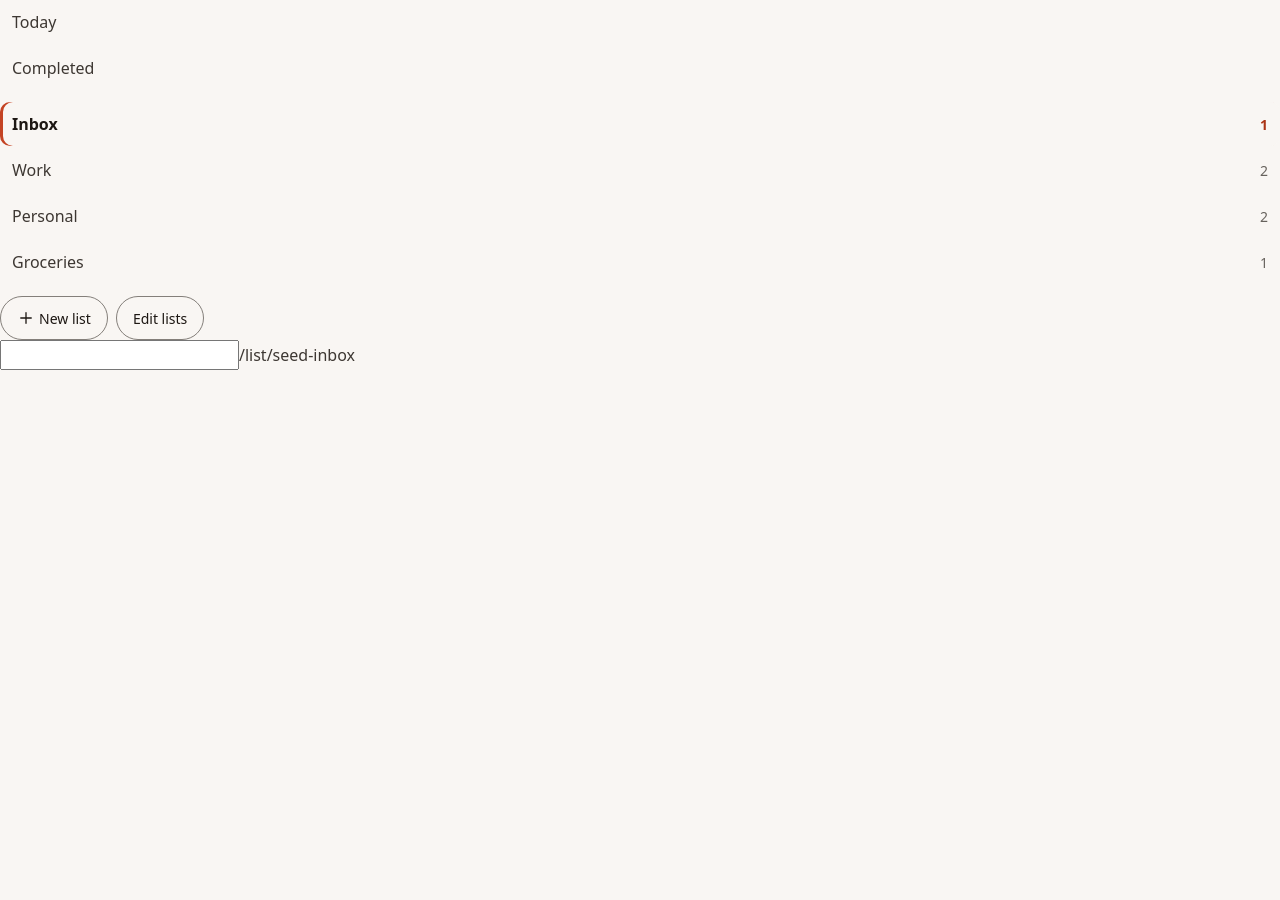
Test case: ListNav › deleting › deletes a non-empty list with its tasks when asked to
expect the link "Work 2" is shown: met, box [12,159,1268,181]
What coordinates should you click on to do the following:
click the button "Edit lists"
I would click on:
 (160, 318)
Its box is [116,296,204,340].
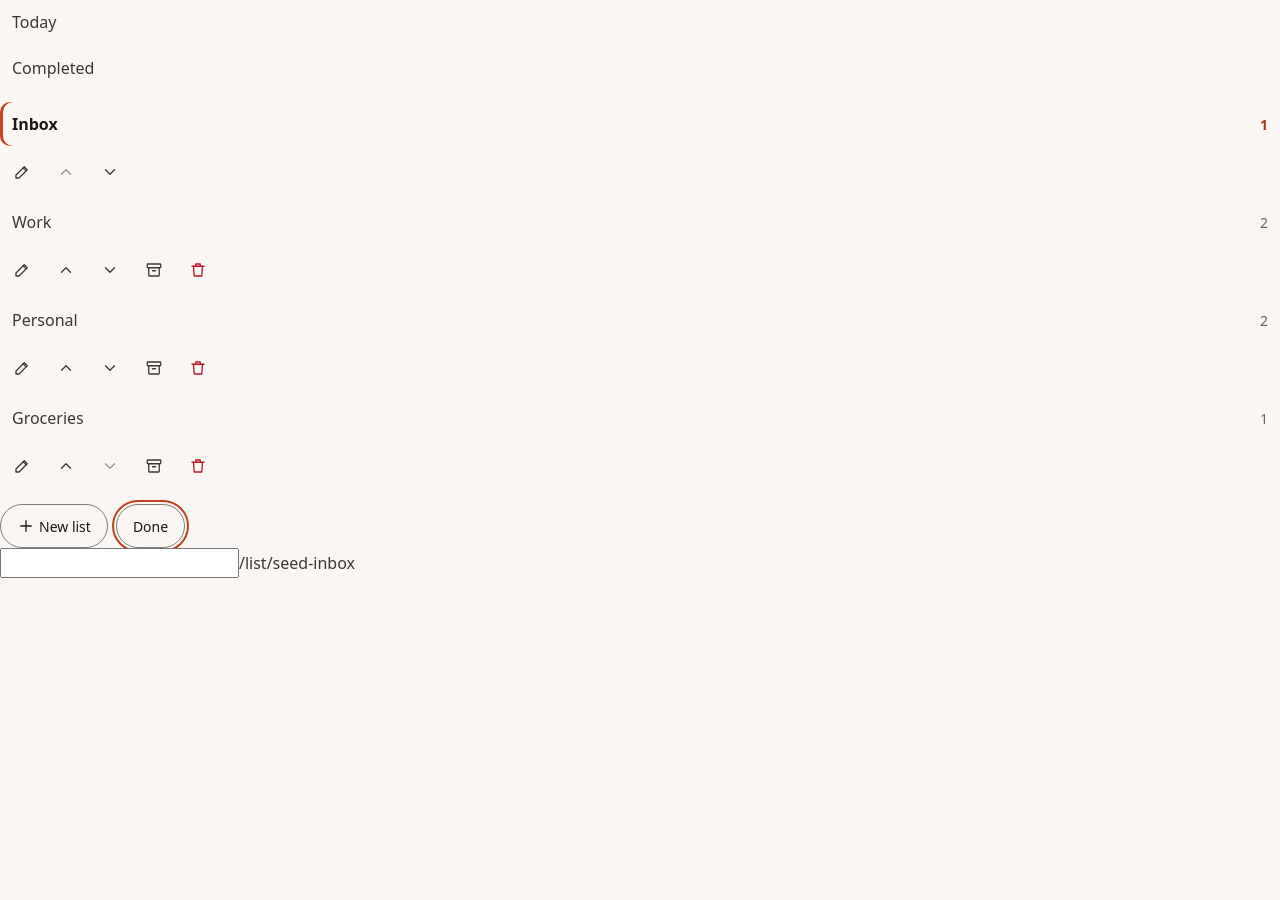
What coordinates should you click on to do the following:
click the button named "Delete Personal"
I would click on:
 (198, 368)
Its box is [176,346,220,390].
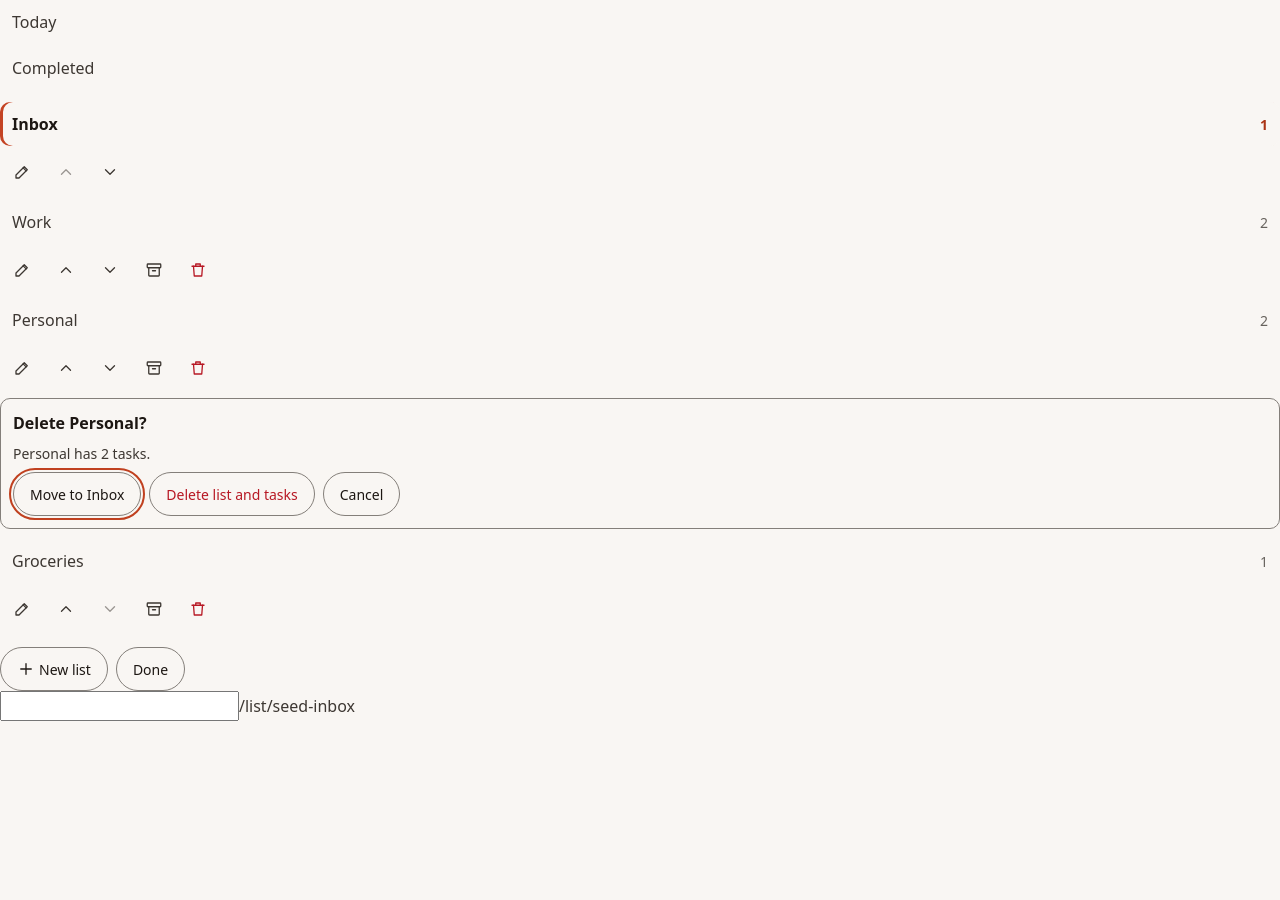
What coordinates should you click on to do the following:
click the button "Delete list and tasks"
I would click on:
 (232, 494)
Its box is [149,472,315,516].
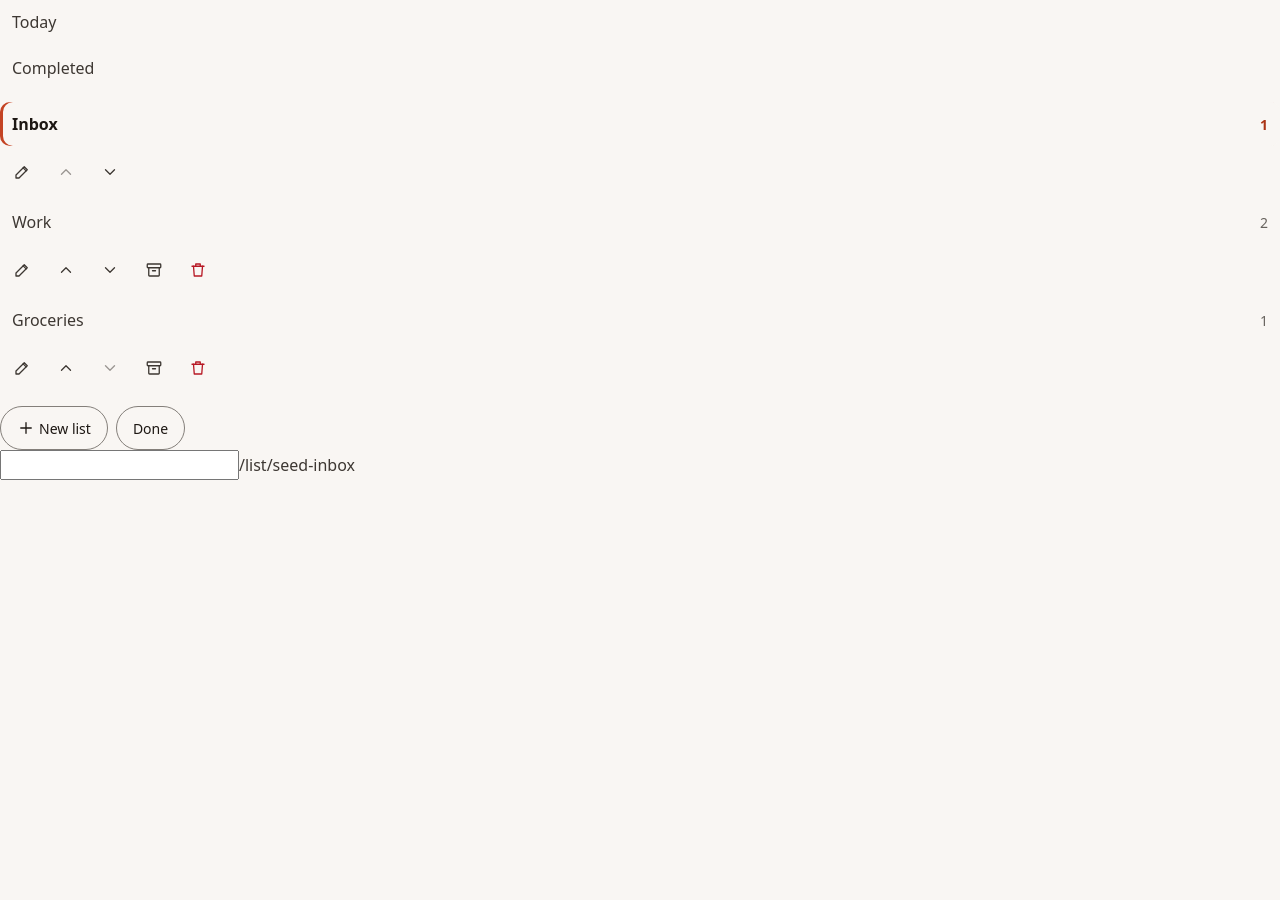
expect the link "Personal" no longer shows "Personal": met
